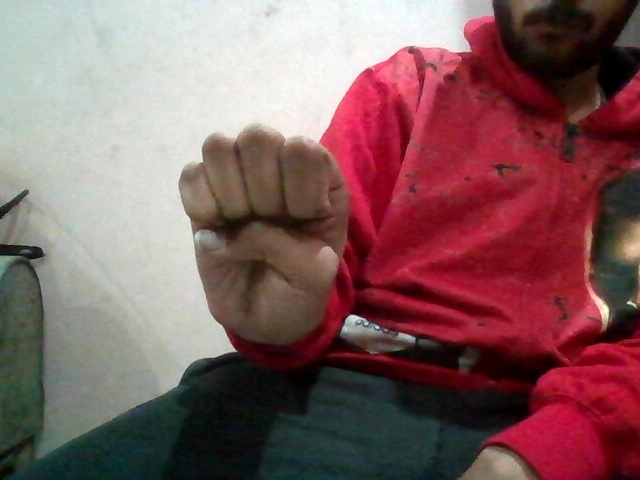E: (163, 109, 381, 353)
